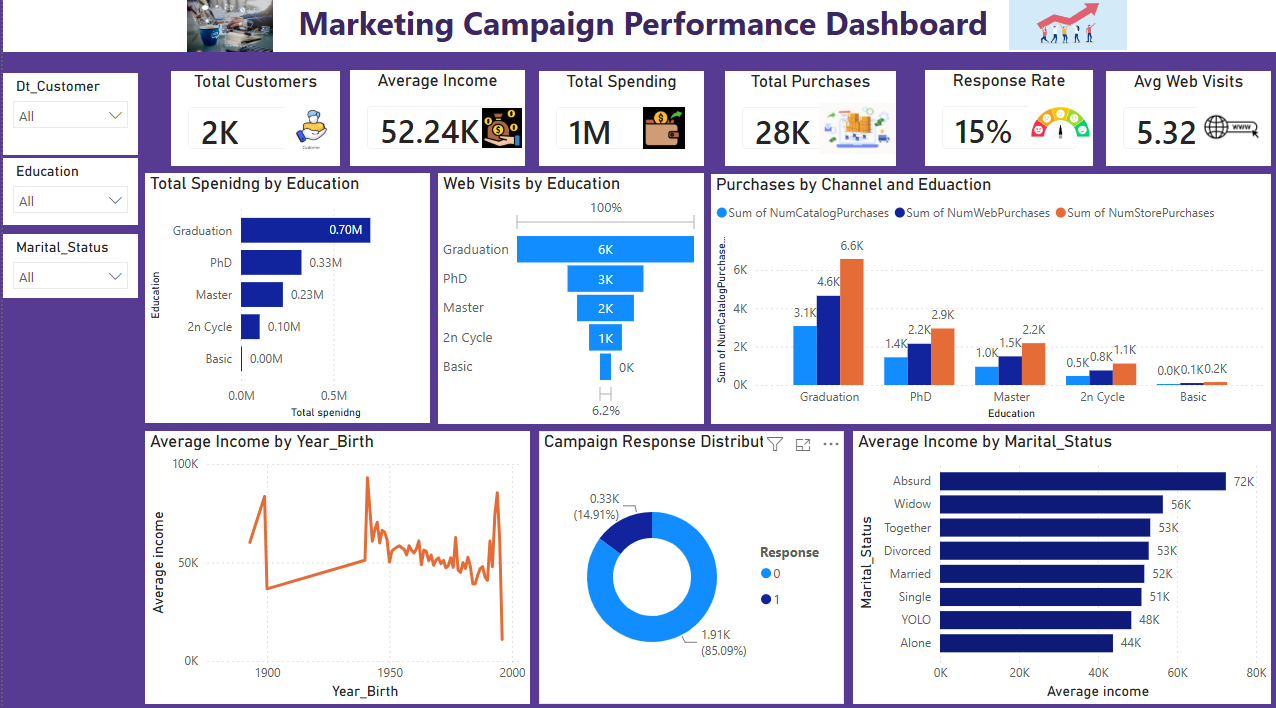

The dashboard page shown, as its layout file describes it:
{"tool":"powerbi","page":{"name":"Page 1","canvas":[1280,720],"ordinal":0},"visuals":[{"type":"clusteredBarChart","title":"Total Spenidng by Education","fields":{"Category":["marketing_campaign.Education"],"Y":["marketing_campaign.Total spenidng"]},"box":[142,178,285,250],"z":0},{"type":"donutChart","title":"Campaign Response Distribution","fields":{"Y":["CountNonNull(marketing_campaign.ID)"],"Category":["marketing_campaign.Response"]},"box":[536,436,305,273],"z":1000},{"type":"clusteredColumnChart","title":"Purchases by Channel and Eduaction","fields":{"Category":["marketing_campaign.Education"],"Y":["Sum(marketing_campaign.NumCatalogPurchases)","Sum(marketing_campaign.NumWebPurchases)","Sum(marketing_campaign.NumStorePurchases)"]},"box":[708,179,560,250],"z":2000},{"type":"lineChart","title":"Average Income by Year_Birth","fields":{"Category":["marketing_campaign.Year_Birth"],"Y":["marketing_campaign.Average income"]},"box":[142,436,385,273],"z":3000},{"type":"clusteredBarChart","title":"Average Income by Marital_Status","fields":{"Category":["marketing_campaign.Marital_Status"],"Y":["marketing_campaign.Average income"]},"box":[850,436,418,273],"z":4000},{"type":"funnel","title":"Web Visits by Education","fields":{"Category":["marketing_campaign.Education"],"Y":["Sum(marketing_campaign.NumWebVisitsMonth)"]},"box":[435,178,266,251],"z":5000},{"type":"cardVisual","title":"Total Customers","fields":{"Data":["marketing_campaign.Total customers"]},"box":[168,76,169,95],"z":6000},{"type":"cardVisual","title":"Average Income","fields":{"Data":["marketing_campaign.Average income"]},"box":[347,75,175,96],"z":7000},{"type":"cardVisual","title":"Total Spending","fields":{"Data":["marketing_campaign.Total spenidng"]},"box":[536,76,165,95],"z":8000},{"type":"cardVisual","title":"Total Purchases","fields":{"Data":["marketing_campaign.Total purchases"]},"box":[722,76,171,95],"z":9000},{"type":"cardVisual","title":"Response Rate","fields":{"Data":["marketing_campaign.Response rate"]},"box":[922,75,168,96],"z":10000},{"type":"cardVisual","title":"Avg Web Visits","fields":{"Data":["marketing_campaign.Avg web visits"]},"box":[1103,76,165,95],"z":11000},{"type":"slicer","fields":{"Values":["marketing_campaign.Education"]},"box":[0,163,135,67],"z":12000},{"type":"slicer","fields":{"Values":["marketing_campaign.Marital_Status"]},"box":[0,239,135,64],"z":13000},{"type":"slicer","fields":{"Values":["marketing_campaign.Dt_Customer"]},"box":[0,78,135,82],"z":14000},{"type":"textbox","box":[0,0,1280,57],"z":15000},{"type":"image","box":[476,113,46,40],"z":16000},{"type":"image","box":[816,104,77,59],"z":17000},{"type":"image","box":[640,108,42,49],"z":18000},{"type":"image","box":[156,0,142,57],"z":18001},{"type":"image","box":[1006,0,118,57],"z":18002},{"type":"image","box":[282,104,53,60],"z":18003},{"type":"image","box":[1025,104,65,48],"z":18004},{"type":"image","box":[1194,107,67,50],"z":18005}]}

Visuals, with their boxes in screenshot pixels (x1, y1, x2, y2), scaled from the page's 1280x720 canvas onto the 1276x708 screenshot:
"Total Spenidng by Education" clusteredBarChart: rect(142, 175, 426, 421)
"Campaign Response Distribution" donutChart: rect(534, 429, 838, 697)
"Purchases by Channel and Eduaction" clusteredColumnChart: rect(706, 176, 1264, 422)
"Average Income by Year_Birth" lineChart: rect(142, 429, 525, 697)
"Average Income by Marital_Status" clusteredBarChart: rect(847, 429, 1264, 697)
"Web Visits by Education" funnel: rect(434, 175, 699, 422)
"Total Customers" cardVisual: rect(167, 75, 336, 168)
"Average Income" cardVisual: rect(346, 74, 520, 168)
"Total Spending" cardVisual: rect(534, 75, 699, 168)
"Total Purchases" cardVisual: rect(720, 75, 890, 168)
"Response Rate" cardVisual: rect(919, 74, 1087, 168)
"Avg Web Visits" cardVisual: rect(1100, 75, 1264, 168)
slicer - marketing_campaign.Education: rect(0, 160, 135, 226)
slicer - marketing_campaign.Marital_Status: rect(0, 235, 135, 298)
slicer - marketing_campaign.Dt_Customer: rect(0, 77, 135, 157)
textbox: rect(0, 0, 1275, 56)
image: rect(475, 111, 520, 150)
image: rect(813, 102, 890, 160)
image: rect(638, 106, 680, 154)
image: rect(156, 0, 297, 56)
image: rect(1003, 0, 1120, 56)
image: rect(281, 102, 334, 161)
image: rect(1022, 102, 1087, 149)
image: rect(1190, 105, 1257, 154)
